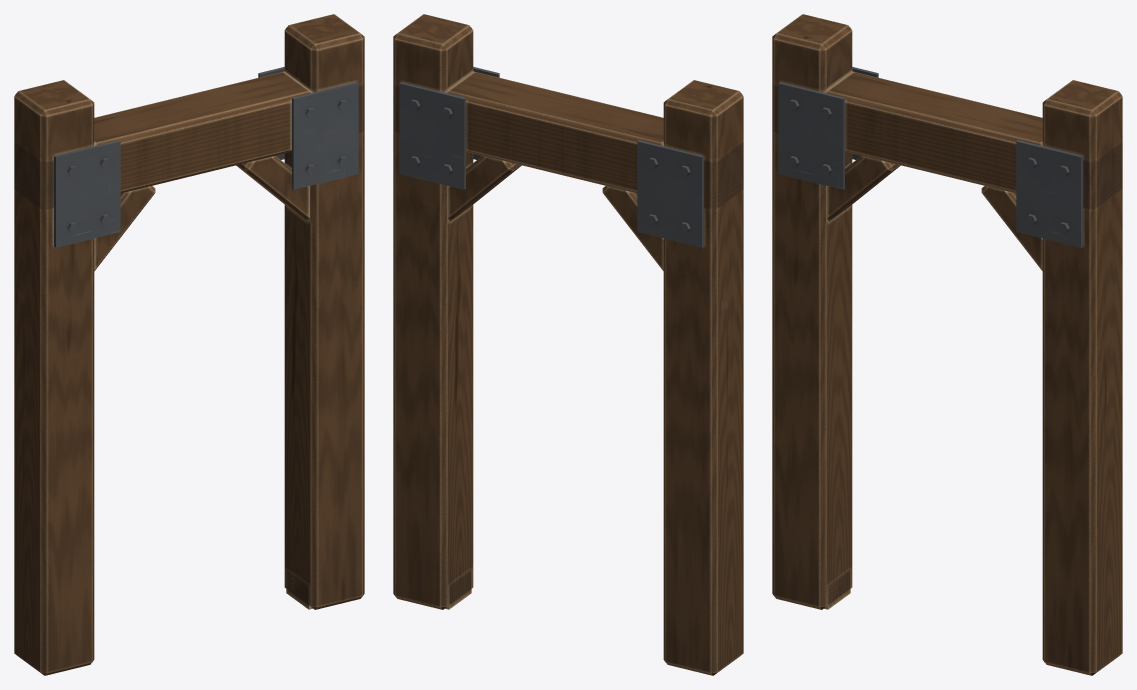
Rendered from viga_mina.fbx.
The picture shows the model from 3 angles, left to right: view 1: azimuth 30°, elevation 25°; view 2: azimuth 150°, elevation 25°; view 3: azimuth 330°, elevation 25°; orthographic projection.
Visible parts, largest first — view 1: viga_mina; view 2: viga_mina; view 3: viga_mina.
Boxes of the visible parts, x1,y1,x2,y2 form: viga_mina: (14,14,364,675); viga_mina: (393,14,743,675); viga_mina: (772,14,1122,675).
Size of the model in its own units: 3 by 5 by 0.633.
Materials: 1 (1 with a texture image).
